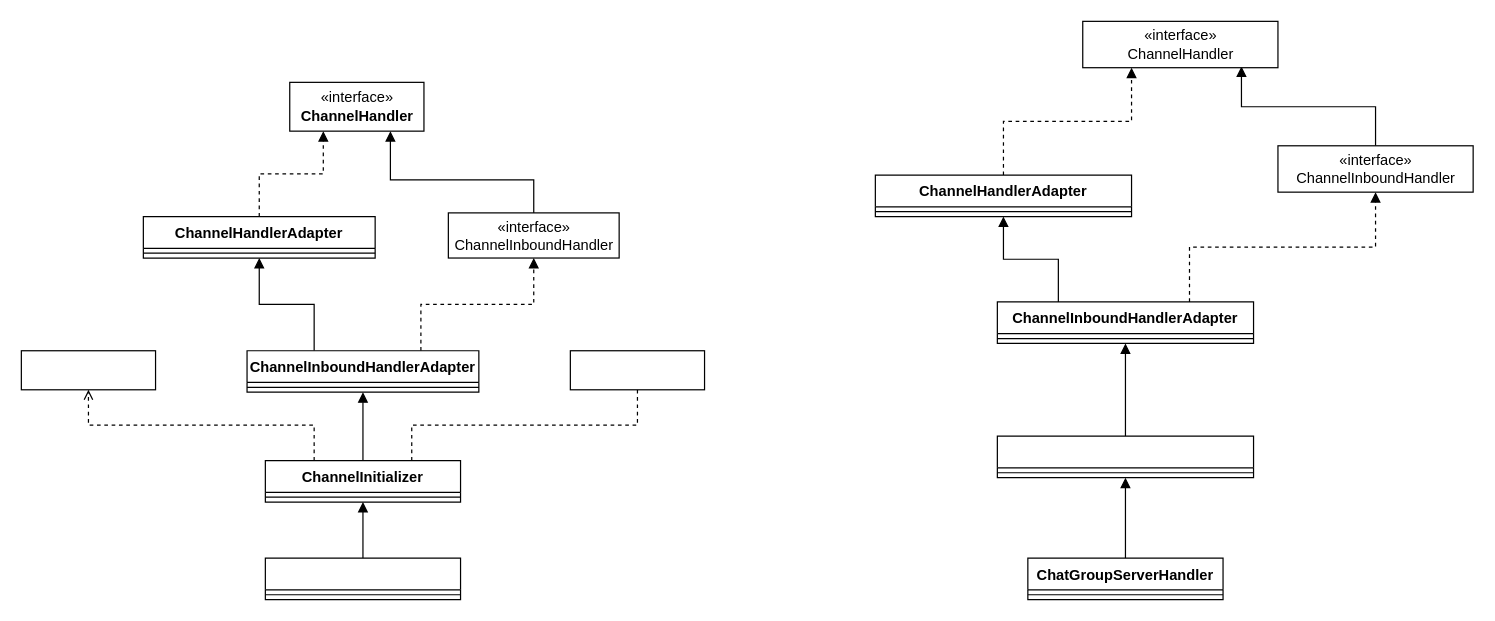
The diagram is 1495 pixels wide and 621 high, and some of its shapes have lost their labels. The shapes that lost their labels are listed below. From the top down, each one's centre as x and y in pixels, then its label:
At (88,370): "«interface» Channel".
At (637,370): "«interface» Sharable".
At (1125,456): "SimpleChannelInboundHandler".
At (362,578): "MyServerInitializer".
